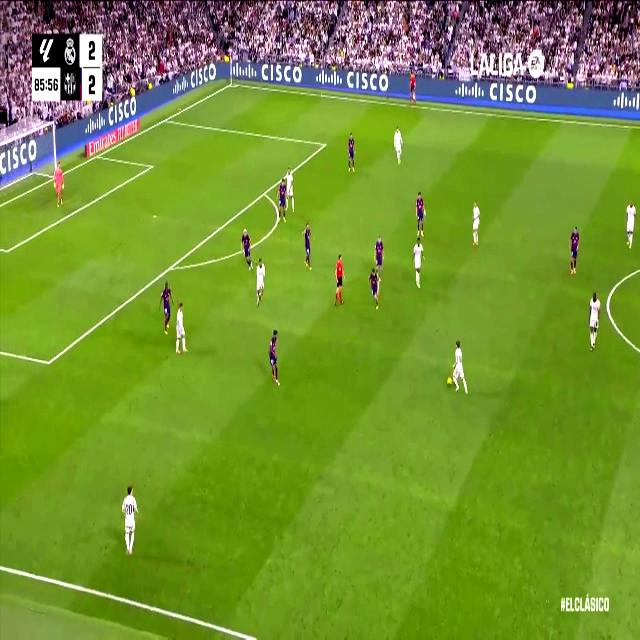bigarea_bottom_inner: (44, 350, 54, 374)
bigarea_top_inner: (322, 138, 326, 150)
bigarea_top_outter: (162, 112, 170, 125)
bottom_arc_area_intersection: (167, 258, 175, 275)
corner: (227, 78, 235, 88)
smallarea_top_inner: (148, 161, 154, 171)
top_arc_area_intersection: (260, 184, 268, 200)
